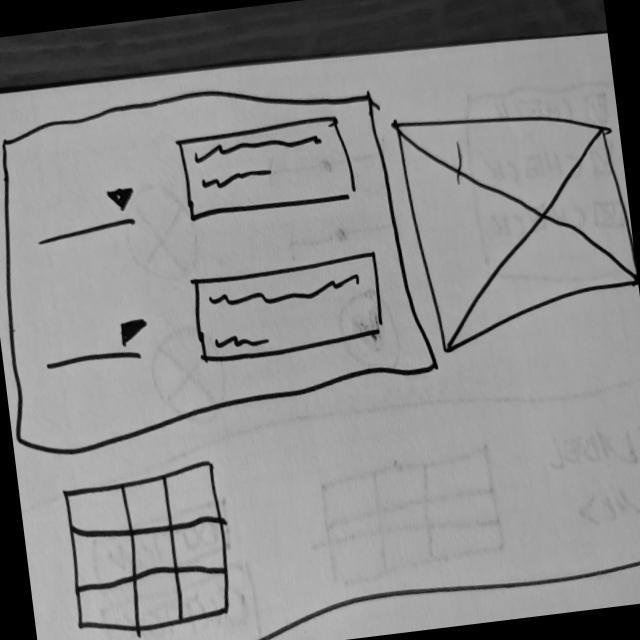container: (1, 62, 447, 466)
select: (188, 248, 389, 368), (30, 182, 144, 247), (39, 314, 156, 374)
